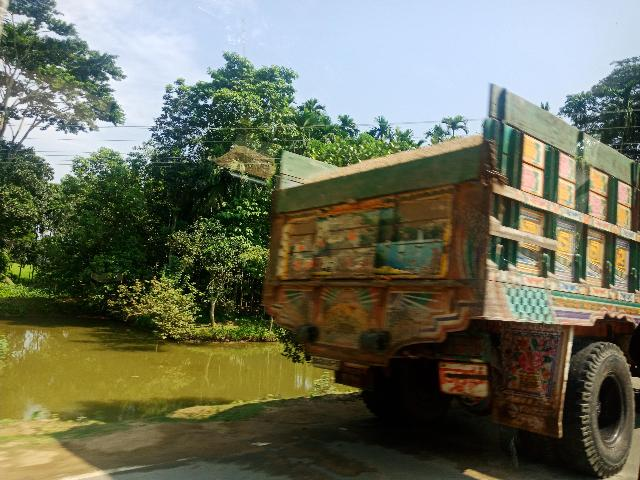truck: (264, 80, 639, 480)
